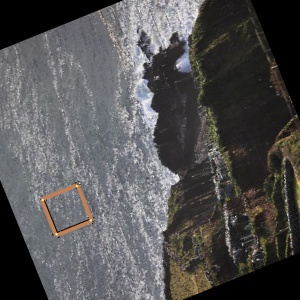square: (39, 182, 95, 237)
